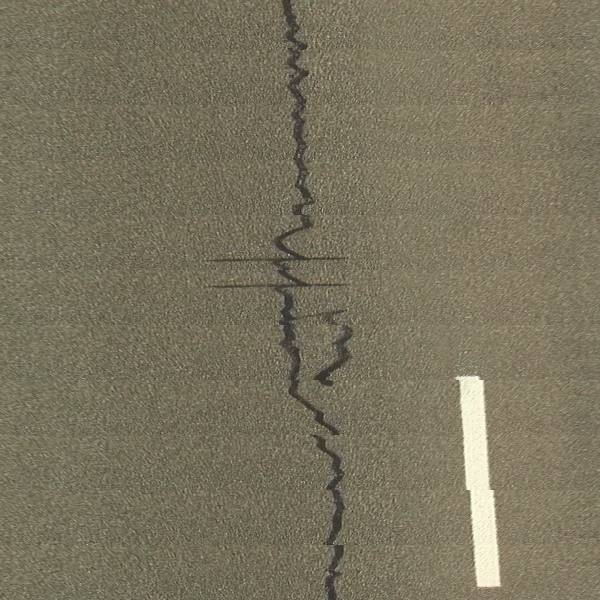road_damage: (270, 290, 357, 600), (266, 1, 319, 253)
